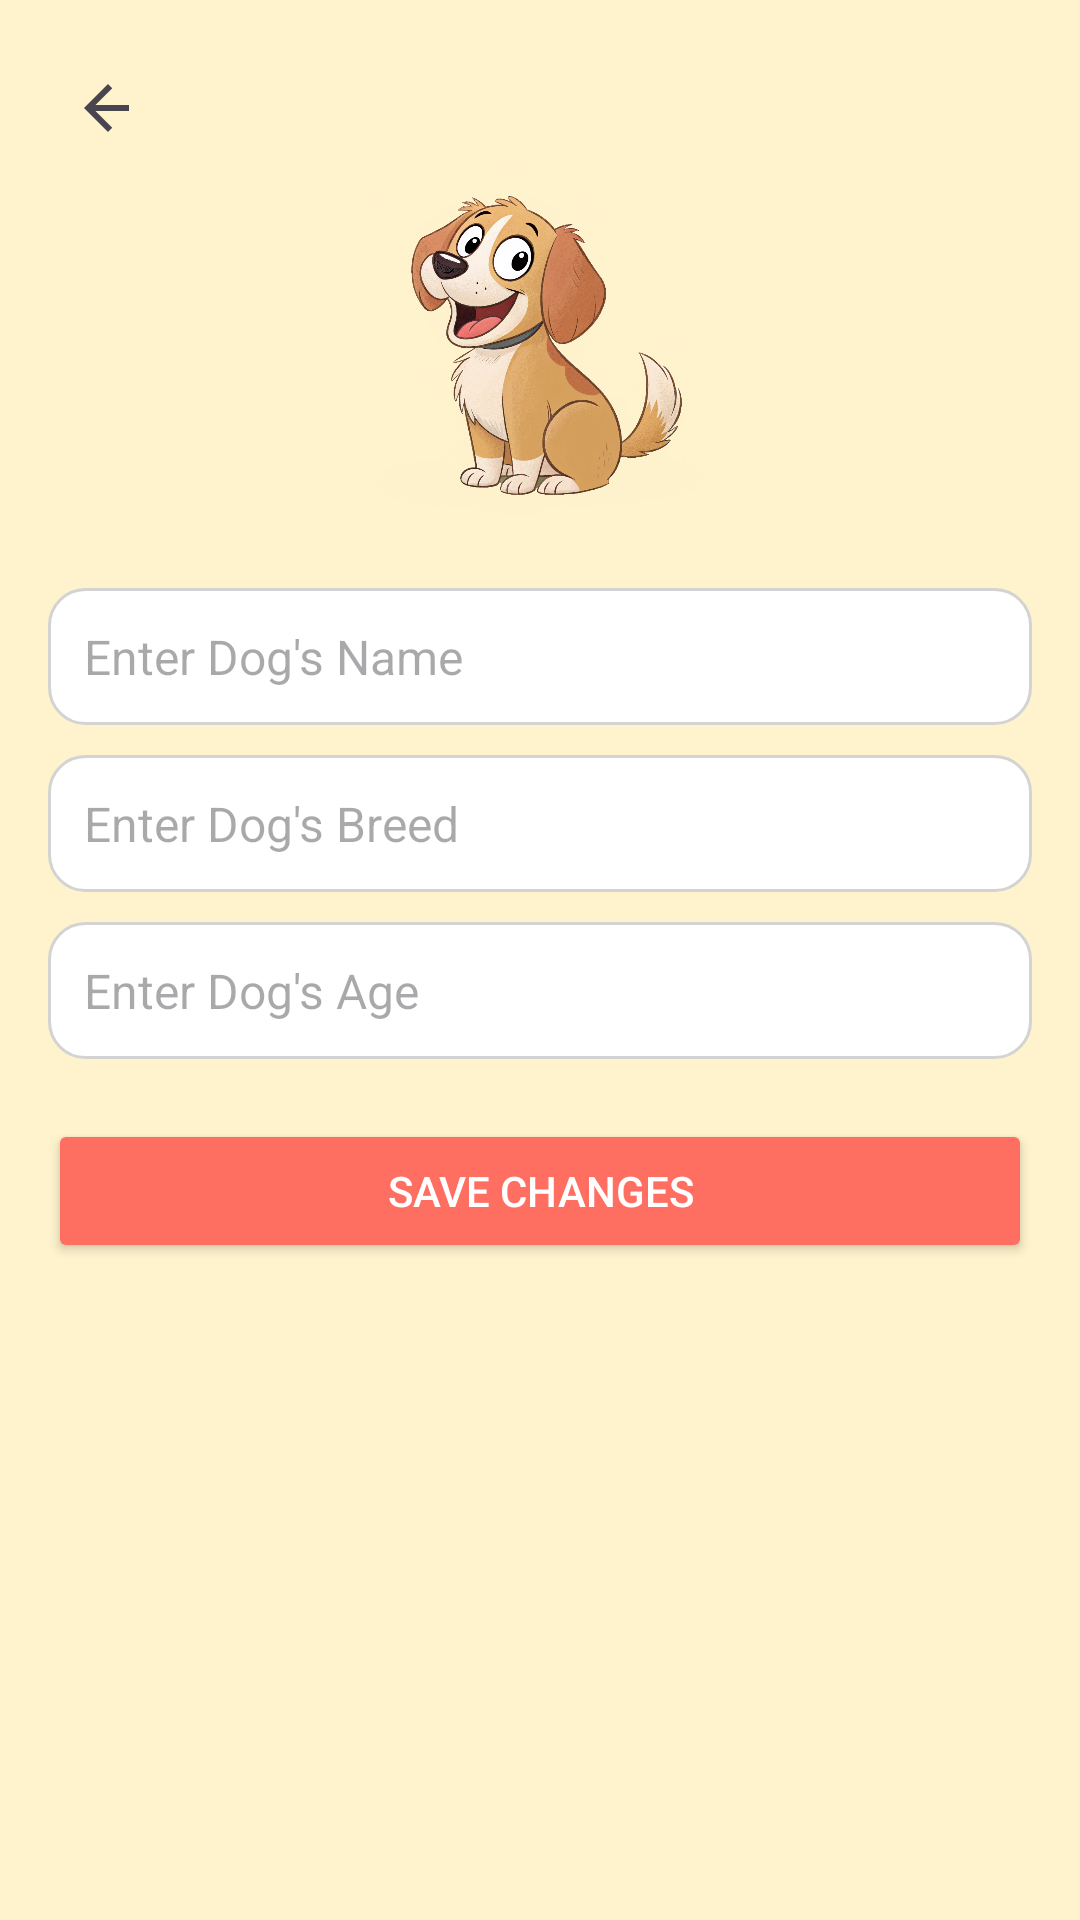

Icons on this 1080 x 1920 Android screen, each with its box as {"x1": x1, "y1": y1, "x2": x2, "y2": y2}:
Back: {"x1": 84, "y1": 84, "x2": 129, "y2": 132}
Profile Image: {"x1": 411, "y1": 196, "x2": 682, "y2": 495}
